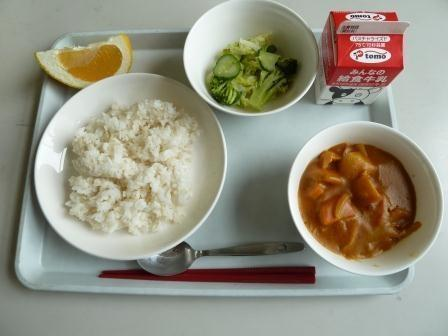Citrus: (35, 29, 137, 100)
Curry: (291, 124, 438, 270)
Milk: (311, 7, 405, 110)
Rice: (55, 98, 201, 243)
Salad: (191, 19, 303, 115)
